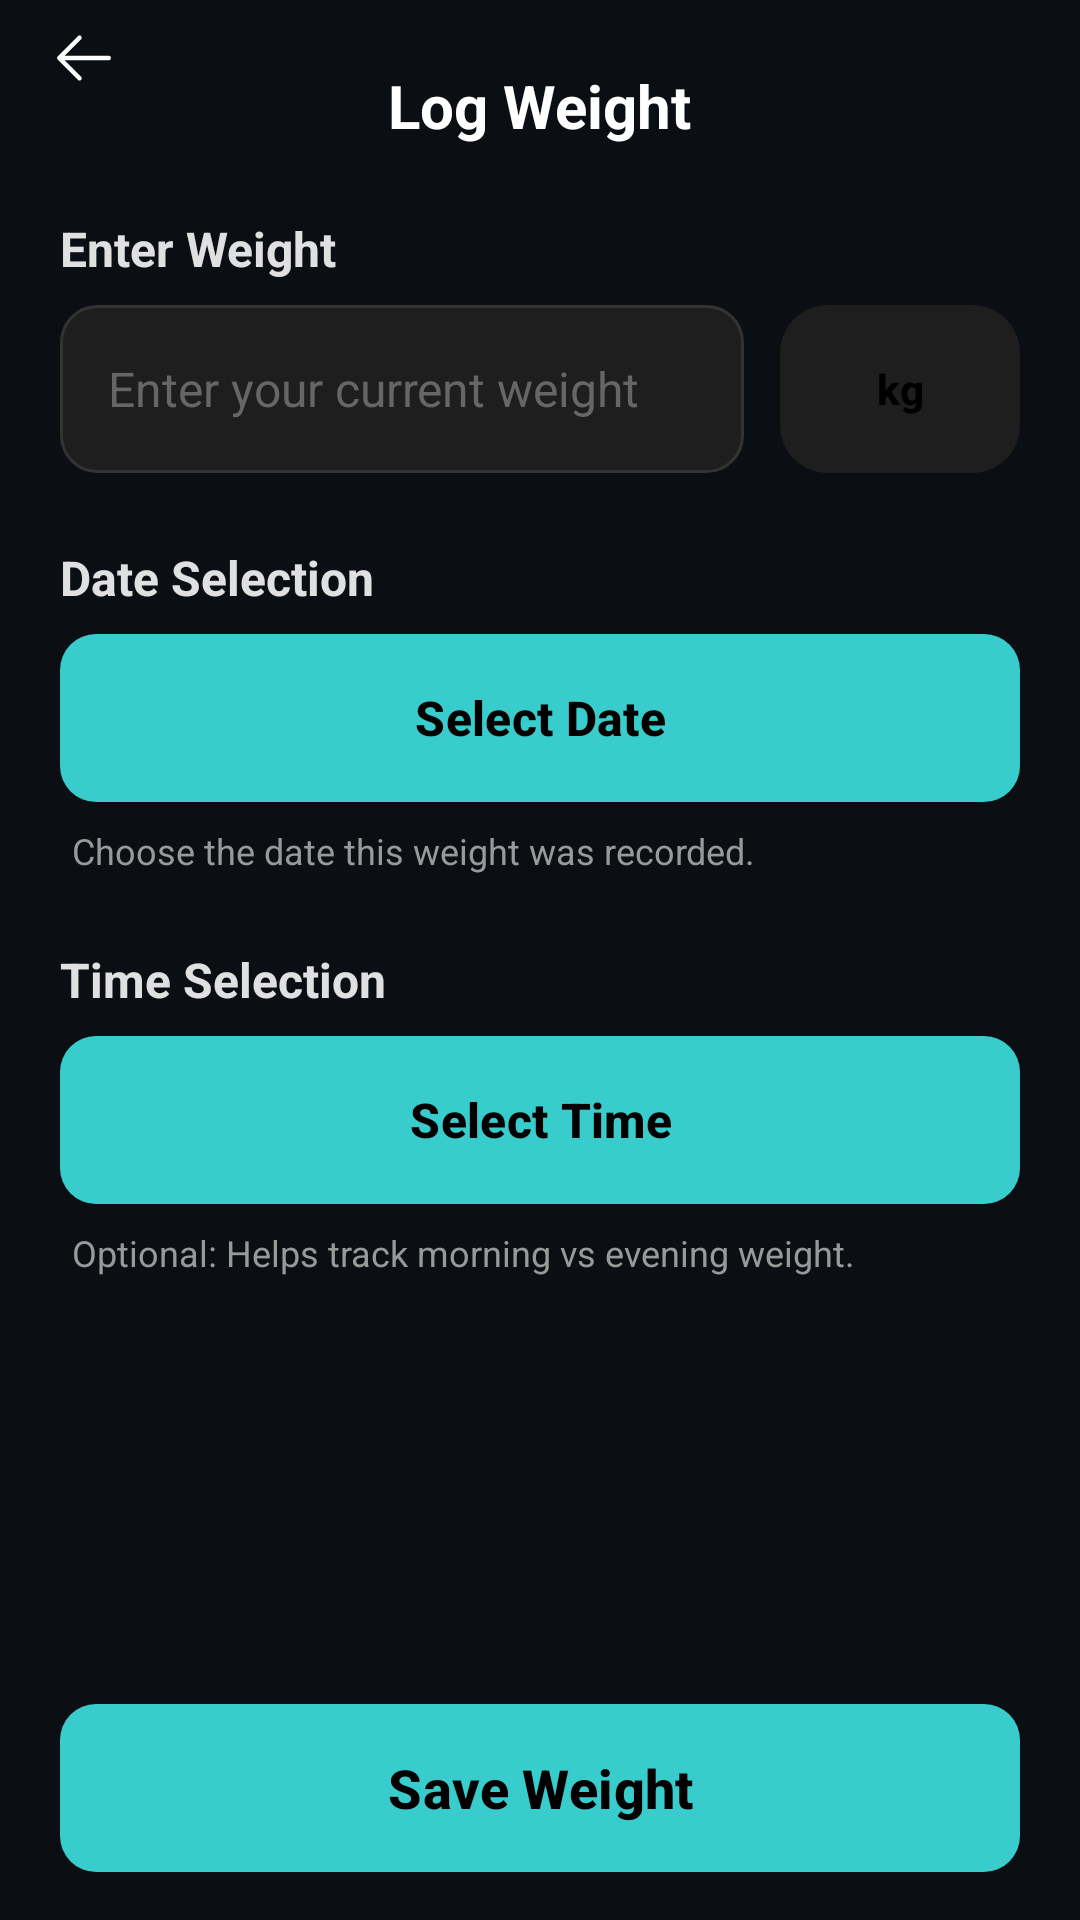

Where icons sit on this 1080px x 1920px app screen, as bbox=[x1, y1, x2, y2]:
Back: bbox=[57, 35, 111, 81]
